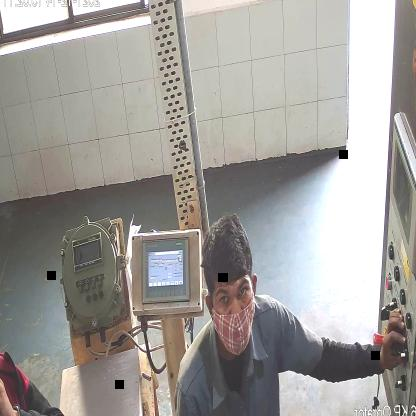no_goggles: (217, 279, 252, 314)
